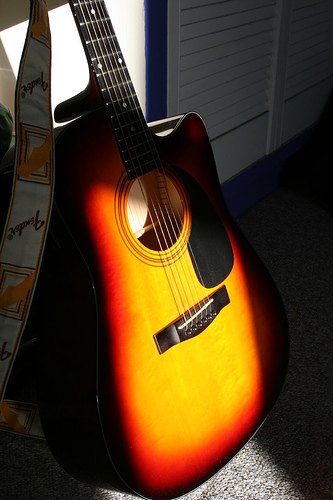guitar: (29, 1, 292, 498)
